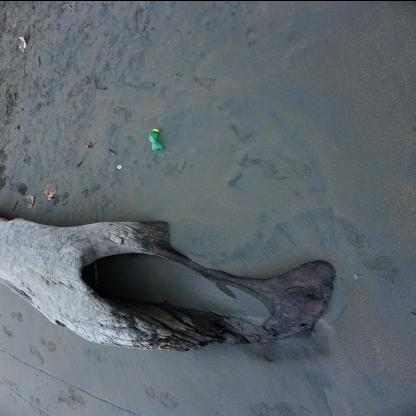plastik: (148, 127, 164, 150), (116, 164, 122, 168)
